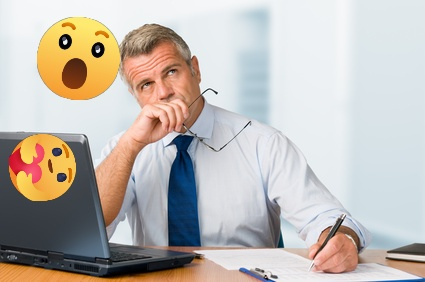care: (9, 134, 76, 201)
wow: (37, 17, 120, 100)
